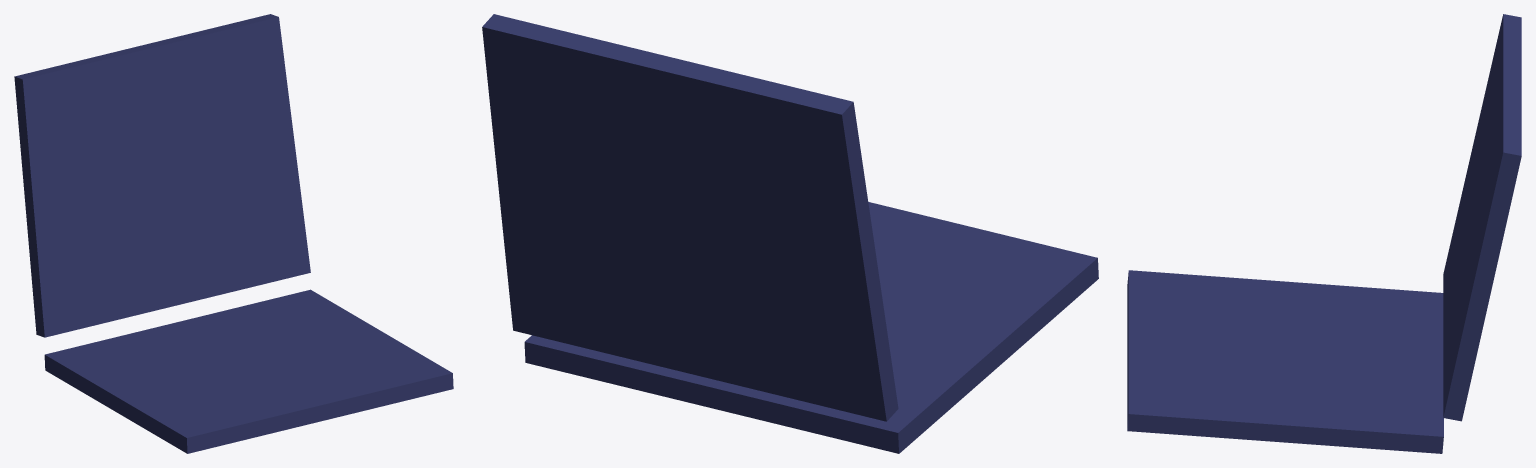
The model's file is chair_seat.fbx.
3 views of the same model, side by side, from view 1: azimuth 30°, elevation 25°; view 2: azimuth 150°, elevation 25°; view 3: azimuth 270°, elevation 25° (orthographic). The views are drawn at different scales.
Visible parts, largest first — view 1: ChairSeat; view 2: ChairSeat; view 3: ChairSeat.
Boxes of the visible parts, x1,y1,x2,y2 form: ChairSeat: (14,14,453,453); ChairSeat: (482,14,1098,453); ChairSeat: (1127,14,1521,453).
Bounding box in the file's own units: 0.54 × 0.523 × 0.6259.
